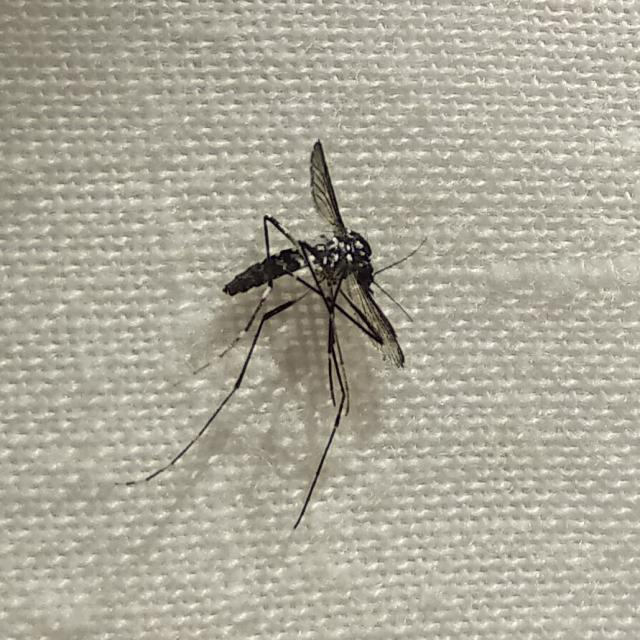albopictus: (124, 131, 454, 542)
